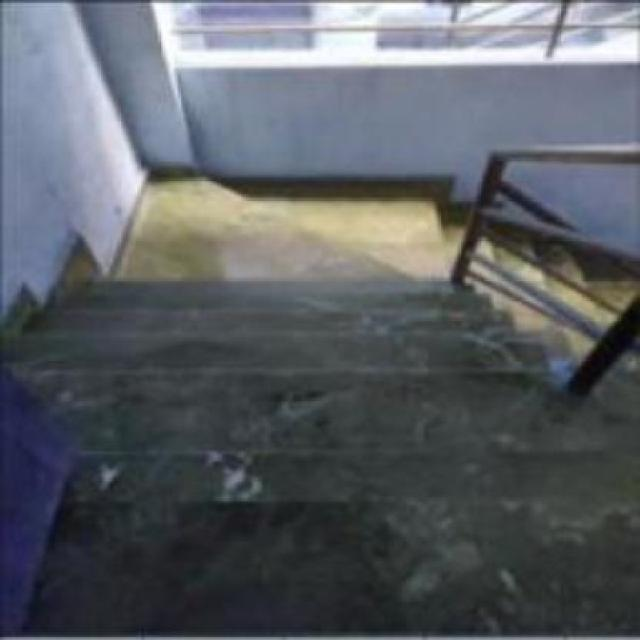stair: (11, 248, 640, 514)
